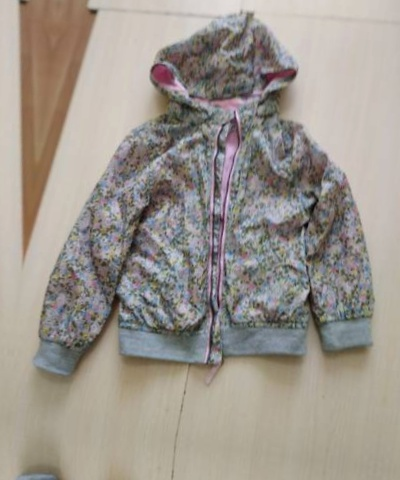Hoodie: (18, 16, 400, 413), (0, 0, 47, 362), (0, 473, 355, 480), (396, 68, 400, 465)
